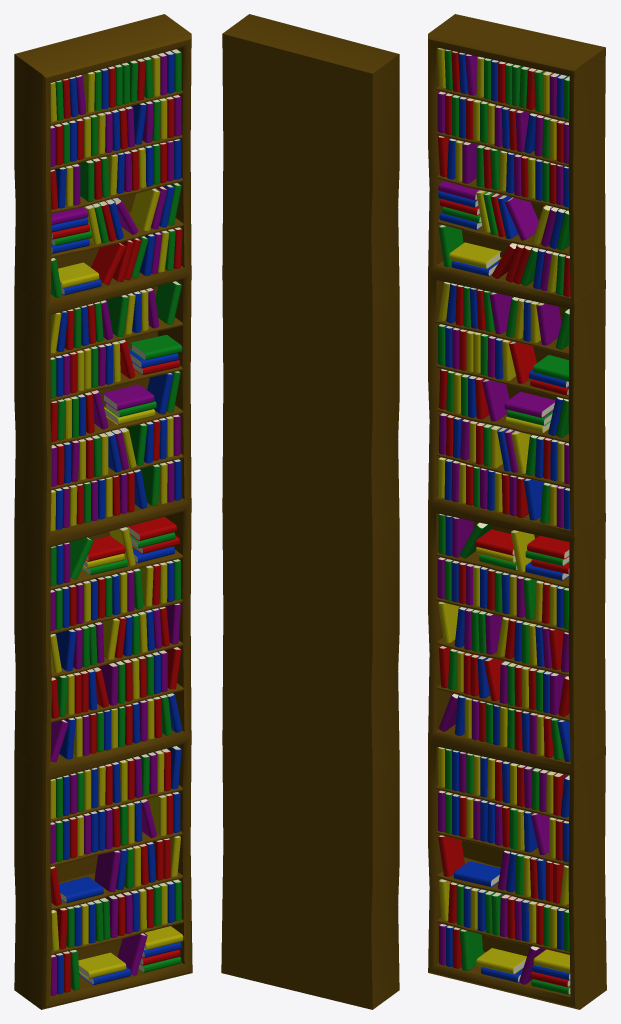
Rendered from bookshelf_a.fbx.
3 renders of one model, left to right at view 1: azimuth 30°, elevation 25°; view 2: azimuth 150°, elevation 25°; view 3: azimuth 330°, elevation 25°, orthographic.
Parts seen in each view (by area): view 1: books, shelf; view 2: shelf; view 3: books, shelf.
Boxes of the visible parts, x1,y1,x2,y2 form: books: [50, 49, 183, 995]; shelf: [14, 14, 192, 1009]; shelf: [221, 14, 399, 1009]; books: [437, 48, 570, 994]; shelf: [428, 14, 606, 1009].
Size of the model in its own units: 94.85 by 563 by 31.41.
